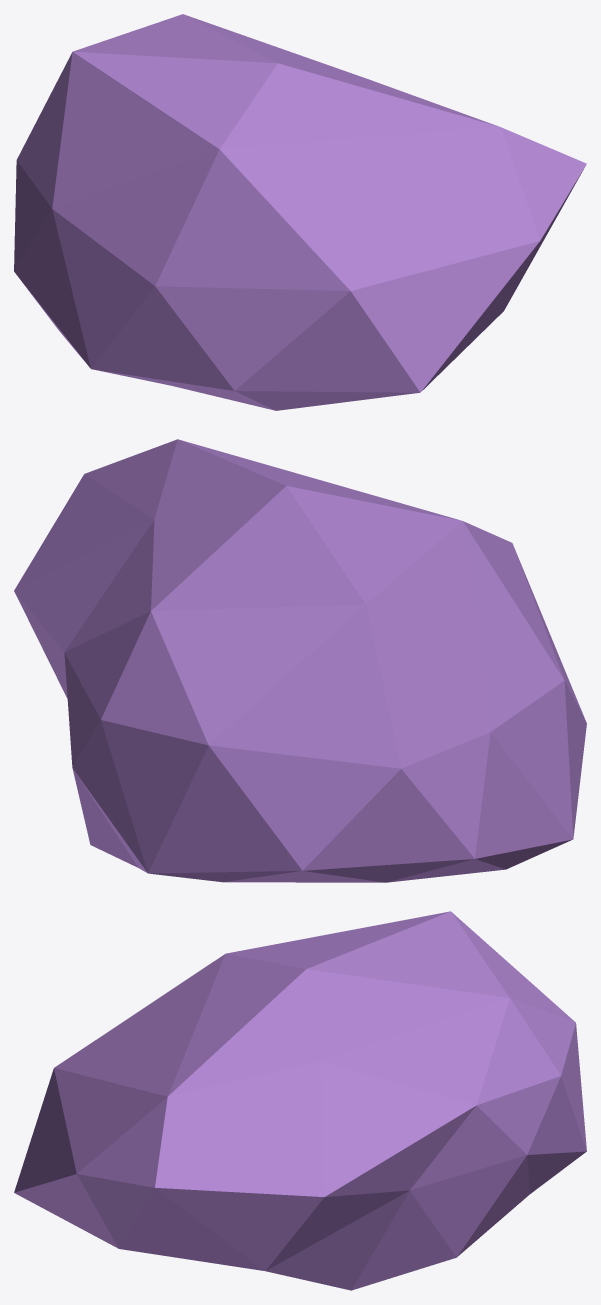
File: rock1.fbx
The picture shows the model from 3 angles, top to bottom: view 1: azimuth 30°, elevation 25°; view 2: azimuth 150°, elevation 25°; view 3: azimuth 270°, elevation 25°; orthographic projection. The views are drawn at different scales.
Parts seen in each view (by area): view 1: rock1; view 2: rock1; view 3: rock1.
Boxes of the visible parts, bbox=[...] form: rock1: bbox=[14, 14, 586, 410]; rock1: bbox=[14, 439, 586, 882]; rock1: bbox=[14, 911, 586, 1290].
Size of the model in its own units: 240 by 140 by 268.
